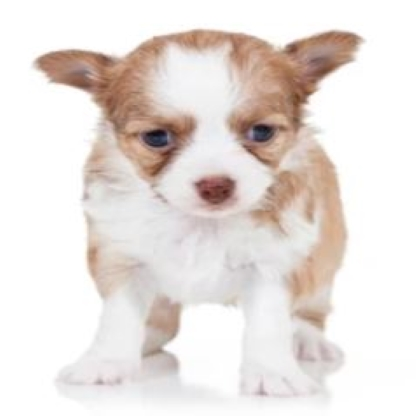chihuahua: (34, 28, 365, 403)
